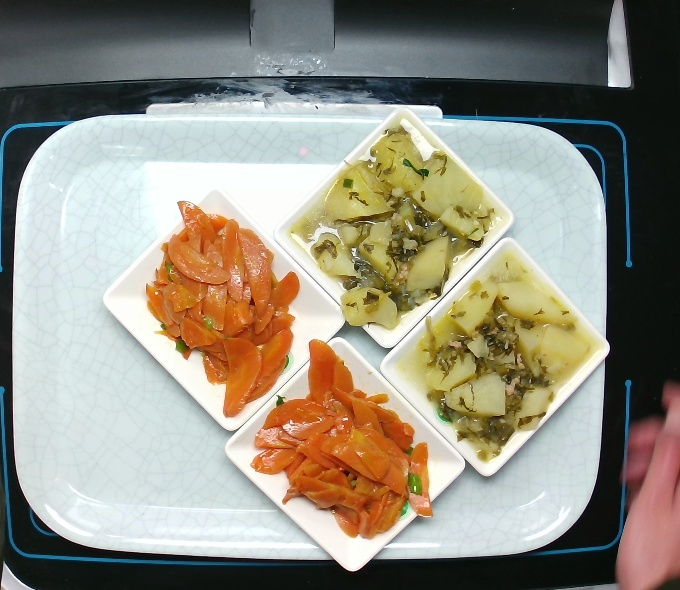wcq-HuLuoBo: (254, 339, 437, 552), (149, 204, 302, 408)
wcq-XueCaiTuDou: (298, 131, 469, 334), (411, 263, 582, 466)
